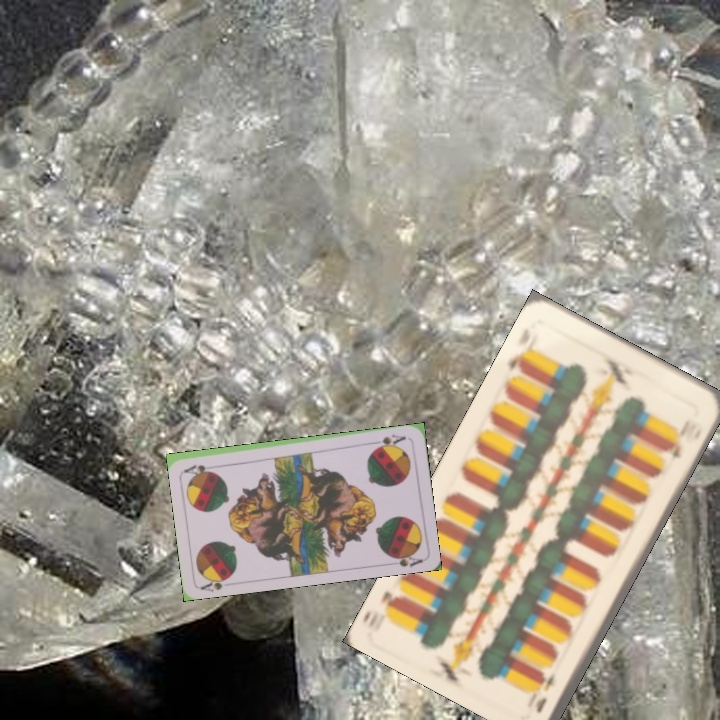E10: (531, 668, 559, 716), (503, 346, 528, 377)
SA: (197, 571, 235, 594), (369, 430, 408, 451)
